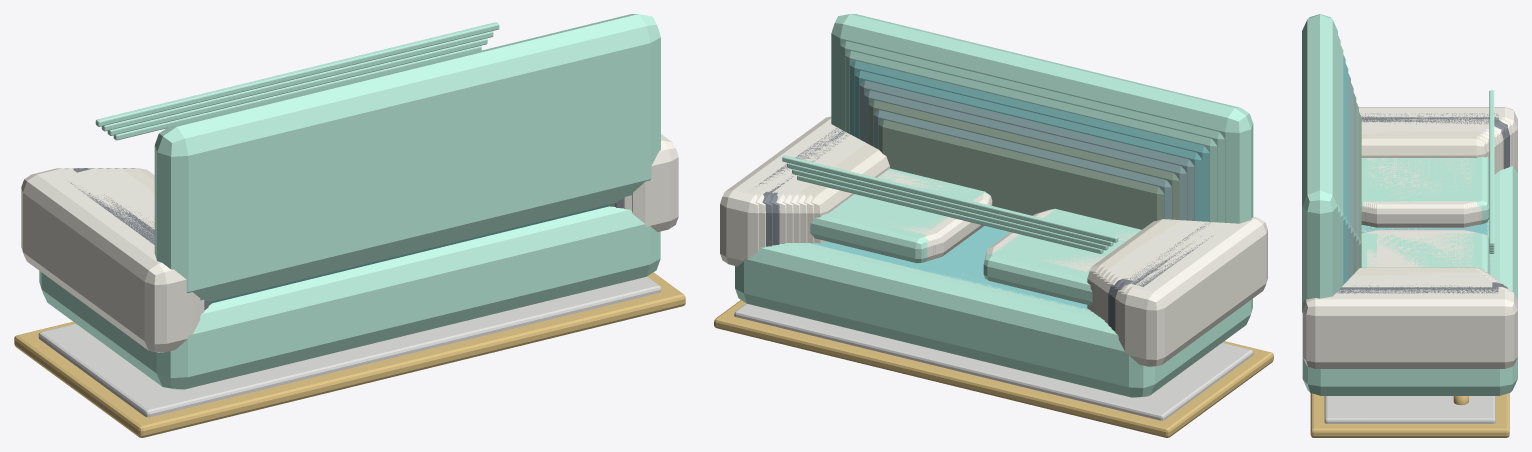
Rendered from Gear18.fbx.
3 views of the same model, side by side, from view 1: azimuth 30°, elevation 25°; view 2: azimuth 150°, elevation 25°; view 3: azimuth 270°, elevation 25° (orthographic). The views are drawn at different scales.
Visible parts, largest first — view 1: Gear18_V10_Glow, Gear18_V10_Linen, Gear18_V10_Gold, Gear18_V10_Chrome, Gear18_V9_Gold, Gear18_V6_Chrome, Gear18_V9_Glow, Gear18_V8_Glow, Gear18_V9_Chrome, Gear18_V5_Chrome, Gear18_V7_Glow, Gear18_V4_Chrome (+5 smaller); view 2: Gear18_V10_Glow, Gear18_V10_Linen, Gear18_V1_Sage, Gear18_V8_Glow, Gear18_V9_Glow, Gear18_V7_Aqua, Gear18_V10_Gold, Gear18_V10_Chrome, Gear18_V9_Gold, Gear18_V6_Aqua, Gear18_V5_Chrome, Gear18_V5_Blue (+19 smaller); view 3: Gear18_V10_Glow, Gear18_V10_Linen, Gear18_V1_Linen, Gear18_V10_Chrome, Gear18_V9_Glow, Gear18_V1_Ivory, Gear18_V8_Glow, Gear18_V10_Gold, Gear18_V6_Linen, Gear18_V5_Linen, Gear18_V4_Linen, Gear18_V7_Graphite (+16 smaller).
Part boxes in pixels (box(x1,y1,x2,y2)): Gear18_V10_Glow: box(39, 14, 660, 389); Gear18_V10_Linen: box(21, 134, 678, 352); Gear18_V10_Gold: box(14, 272, 685, 437); Gear18_V10_Chrome: box(38, 276, 661, 417); Gear18_V9_Gold: box(25, 276, 675, 434); Gear18_V6_Chrome: box(152, 284, 628, 403); Gear18_V9_Glow: box(101, 31, 625, 301); Gear18_V8_Glow: box(107, 38, 618, 302); Gear18_V9_Chrome: box(53, 278, 652, 414); Gear18_V5_Chrome: box(168, 298, 611, 407); Gear18_V7_Glow: box(113, 46, 481, 140); Gear18_V4_Chrome: box(193, 300, 615, 405); Gear18_V10_Glow: box(735, 14, 1253, 397); Gear18_V10_Linen: box(720, 116, 1267, 366); Gear18_V1_Sage: box(878, 120, 1164, 272); Gear18_V8_Glow: box(792, 51, 1217, 277); Gear18_V9_Glow: box(787, 41, 1224, 317); Gear18_V7_Aqua: box(809, 60, 1209, 311); Gear18_V10_Gold: box(714, 300, 1273, 437); Gear18_V10_Chrome: box(734, 303, 1253, 420); Gear18_V9_Gold: box(721, 320, 1215, 434); Gear18_V6_Aqua: box(819, 70, 1202, 309); Gear18_V5_Chrome: box(766, 311, 1143, 411); Gear18_V5_Blue: box(859, 80, 1194, 220); Gear18_V10_Glow: box(1302, 14, 1517, 395); Gear18_V10_Linen: box(1302, 107, 1517, 368); Gear18_V1_Linen: box(1371, 175, 1469, 267); Gear18_V10_Chrome: box(1324, 396, 1495, 423); Gear18_V9_Glow: box(1338, 35, 1496, 290); Gear18_V1_Ivory: box(1356, 134, 1487, 272); Gear18_V8_Glow: box(1340, 45, 1494, 287); Gear18_V10_Gold: box(1310, 393, 1509, 437); Gear18_V6_Linen: box(1342, 119, 1503, 287); Gear18_V5_Linen: box(1344, 122, 1500, 284); Gear18_V4_Linen: box(1347, 125, 1497, 281); Gear18_V7_Graphite: box(1339, 116, 1506, 290).
Bounding box in the file's own units: 193 × 101 × 84.52.
